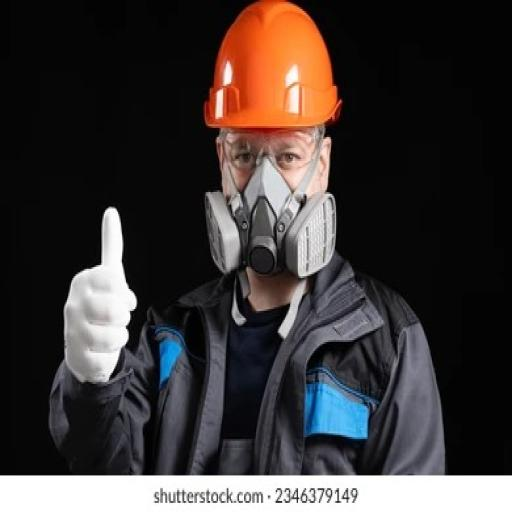mask: (198, 166, 346, 281)
